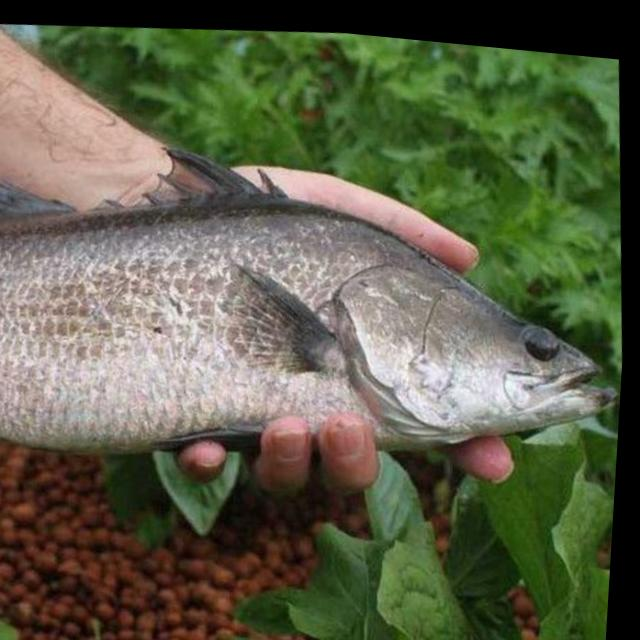Seabass: (0, 96, 634, 513)
